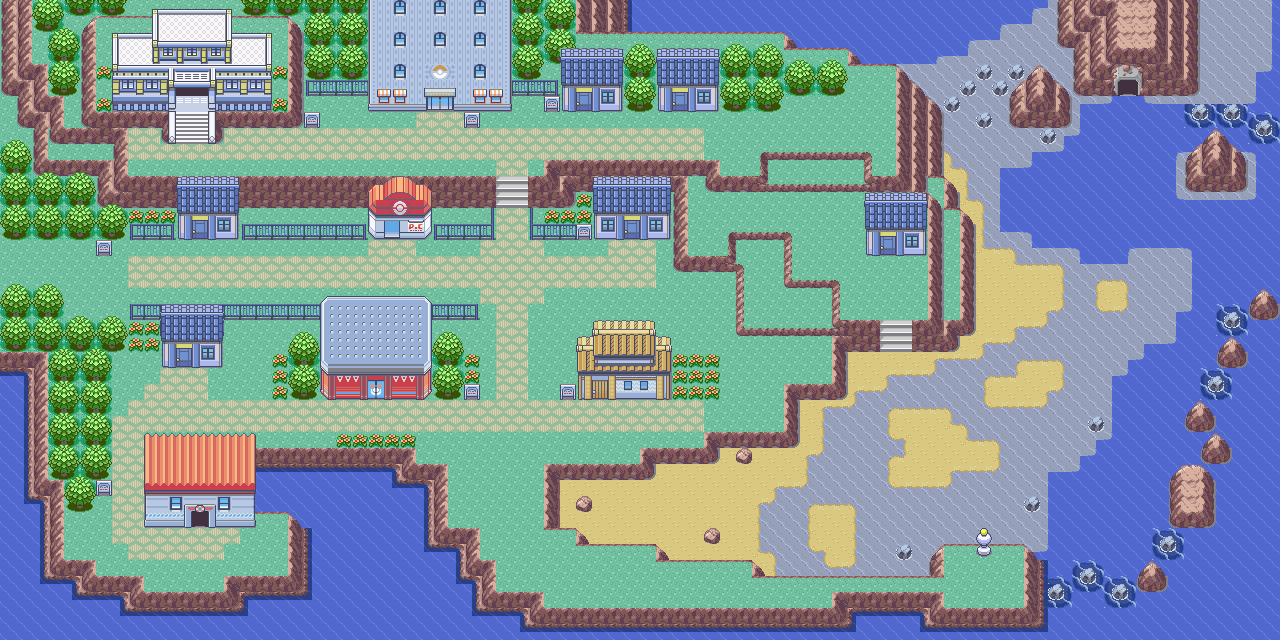cave: (1101, 54, 1154, 106)
misc: (317, 293, 435, 406), (139, 431, 260, 532), (136, 60, 245, 148), (367, 52, 511, 113)
normal_house: (570, 319, 676, 403), (590, 174, 675, 244), (653, 44, 722, 115), (157, 302, 227, 371), (861, 190, 930, 259), (559, 46, 626, 115), (176, 174, 241, 241)
pokemon_center: (366, 177, 433, 243)
